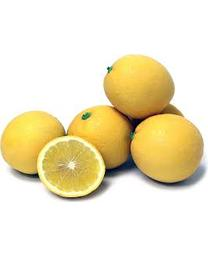lemon: (130, 114, 205, 185), (35, 134, 107, 200), (104, 56, 176, 118), (67, 105, 131, 168), (2, 111, 65, 174)
